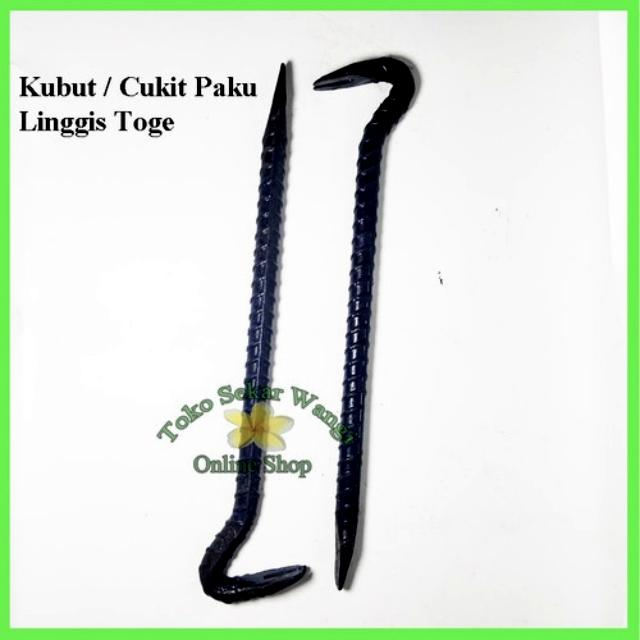crow bar: (306, 43, 434, 593), (193, 68, 313, 612)
